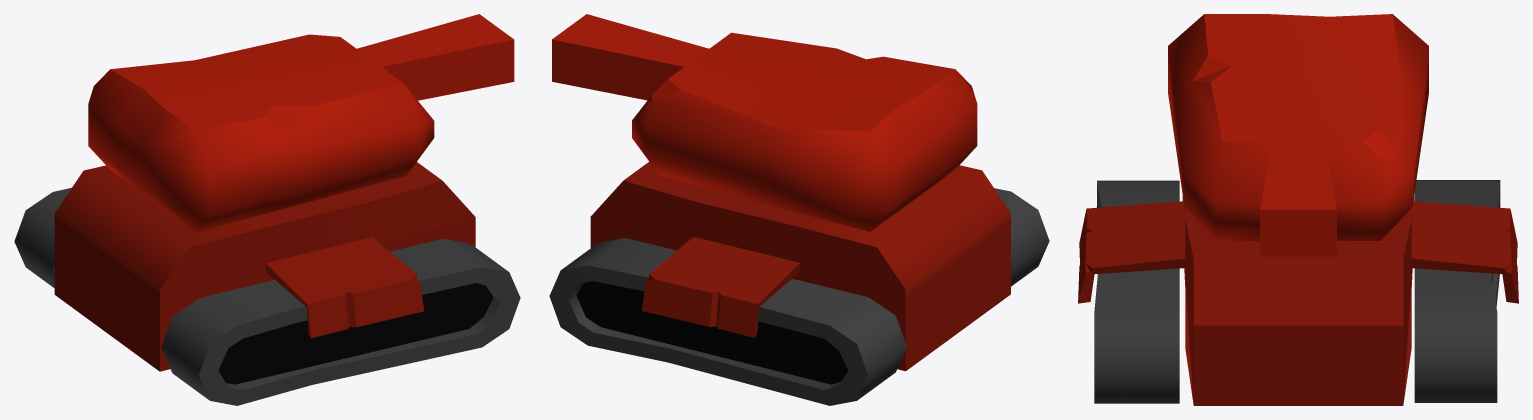
File: TankEnemy.fbx
The picture shows the model from 3 angles, left to right: view 1: azimuth 30°, elevation 25°; view 2: azimuth 150°, elevation 25°; view 3: azimuth 270°, elevation 25°; orthographic projection. The views are drawn at different scales.
Parts seen in each view (by area): view 1: hull.enemy.005; view 2: hull.enemy.005; view 3: hull.enemy.005.
Part boxes in pixels (x1,y1,x2,y2): hull.enemy.005: (14, 14, 520, 405); hull.enemy.005: (549, 14, 1049, 405); hull.enemy.005: (1078, 14, 1518, 405).
Bounding box in the file's own units: 216 × 141 × 244.
